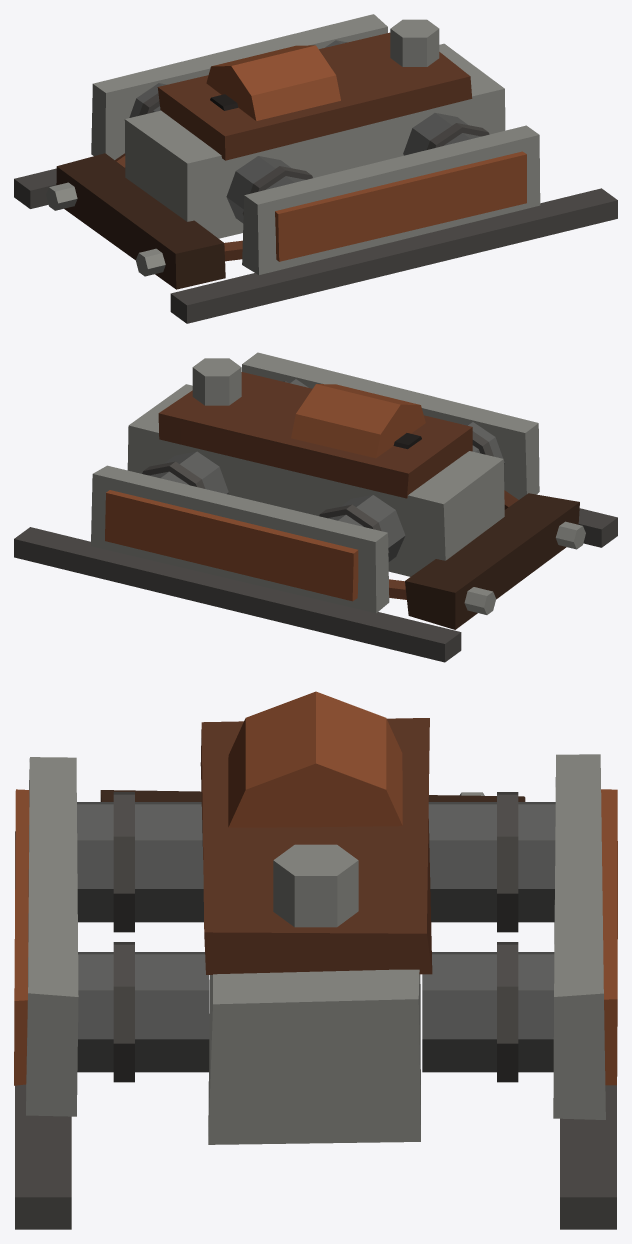
The model's file is eng_flat_four.glb.
3 views of the same model, one above another, from view 1: azimuth 30°, elevation 25°; view 2: azimuth 150°, elevation 25°; view 3: azimuth 270°, elevation 25° (orthographic). The views are drawn at different scales.
Visible parts, largest first — view 1: eng_flat_four; view 2: eng_flat_four; view 3: eng_flat_four.
Boxes of the visible parts, x1=… form: eng_flat_four: x1=14, y1=14, x2=617, y2=323; eng_flat_four: x1=14, y1=352, x2=617, y2=662; eng_flat_four: x1=14, y1=691, x2=617, y2=1229.
Bounding box in the file's own units: 1.23 × 0.44 × 0.8508.
